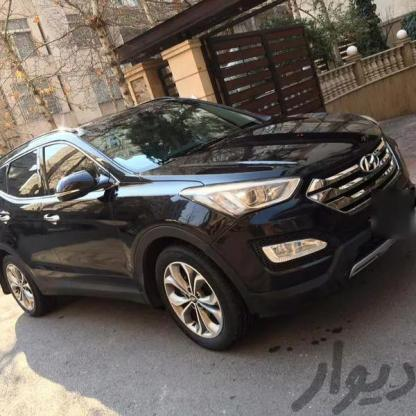Car: (0, 101, 412, 330)
